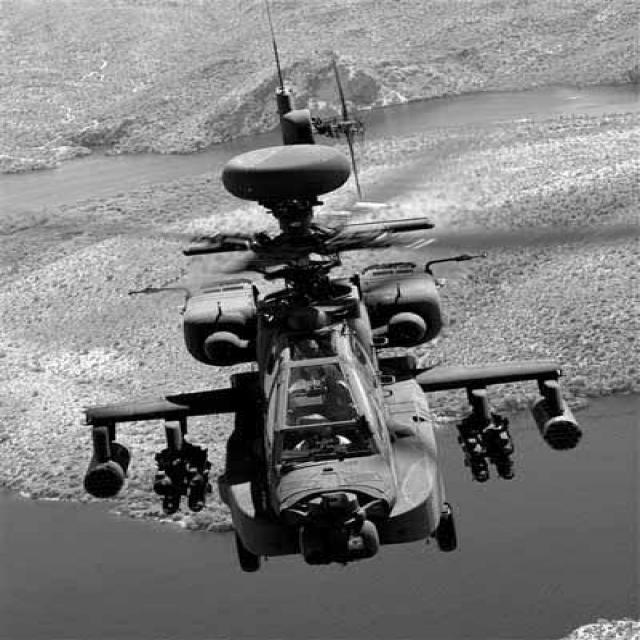MIL_HELO: (67, 78, 592, 580)
